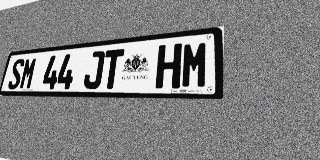4: (56, 53, 77, 89), (41, 55, 62, 89)
H: (155, 43, 182, 88)
J: (83, 51, 105, 89)
M: (181, 41, 209, 88), (19, 57, 38, 89)
S: (7, 58, 25, 89)
T: (101, 49, 124, 89)
